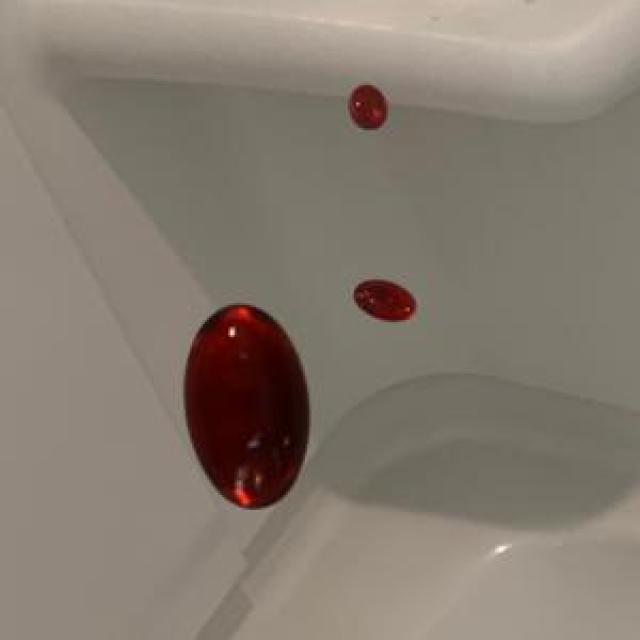Medicol: (173, 291, 321, 521), (348, 268, 423, 329), (341, 76, 396, 142)
